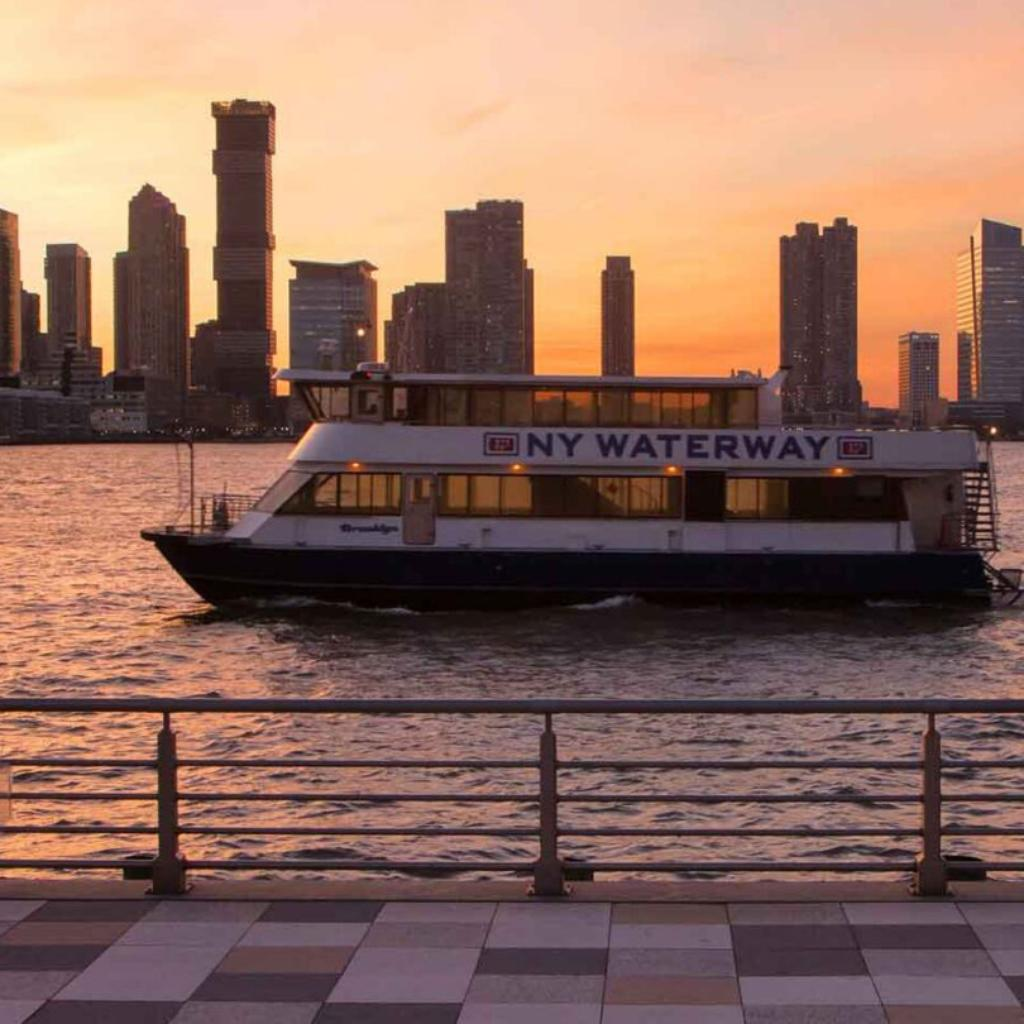PassengerShip: (112, 344, 1024, 612)
